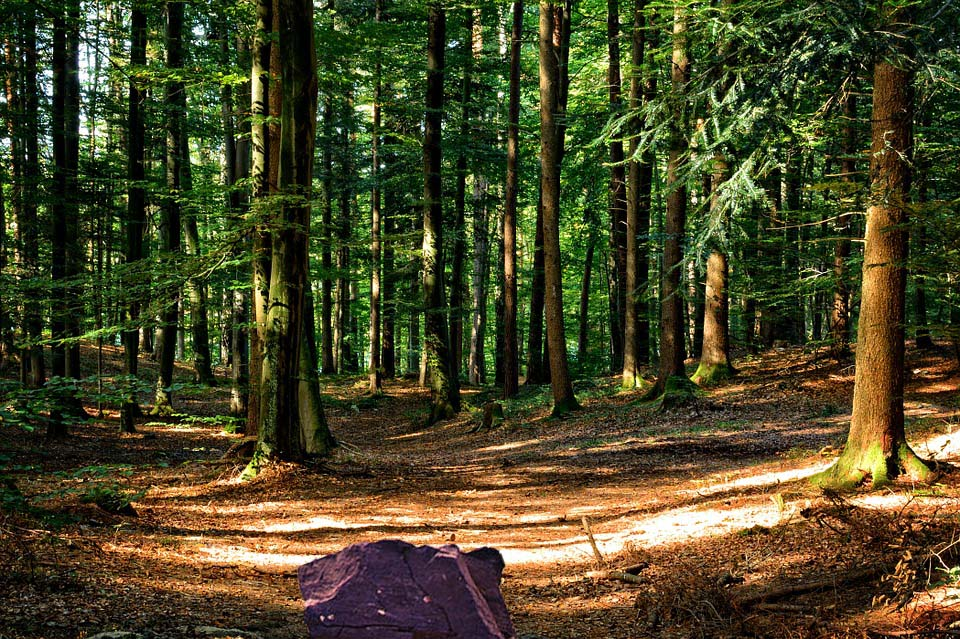Rocks: (298, 546, 503, 639)
